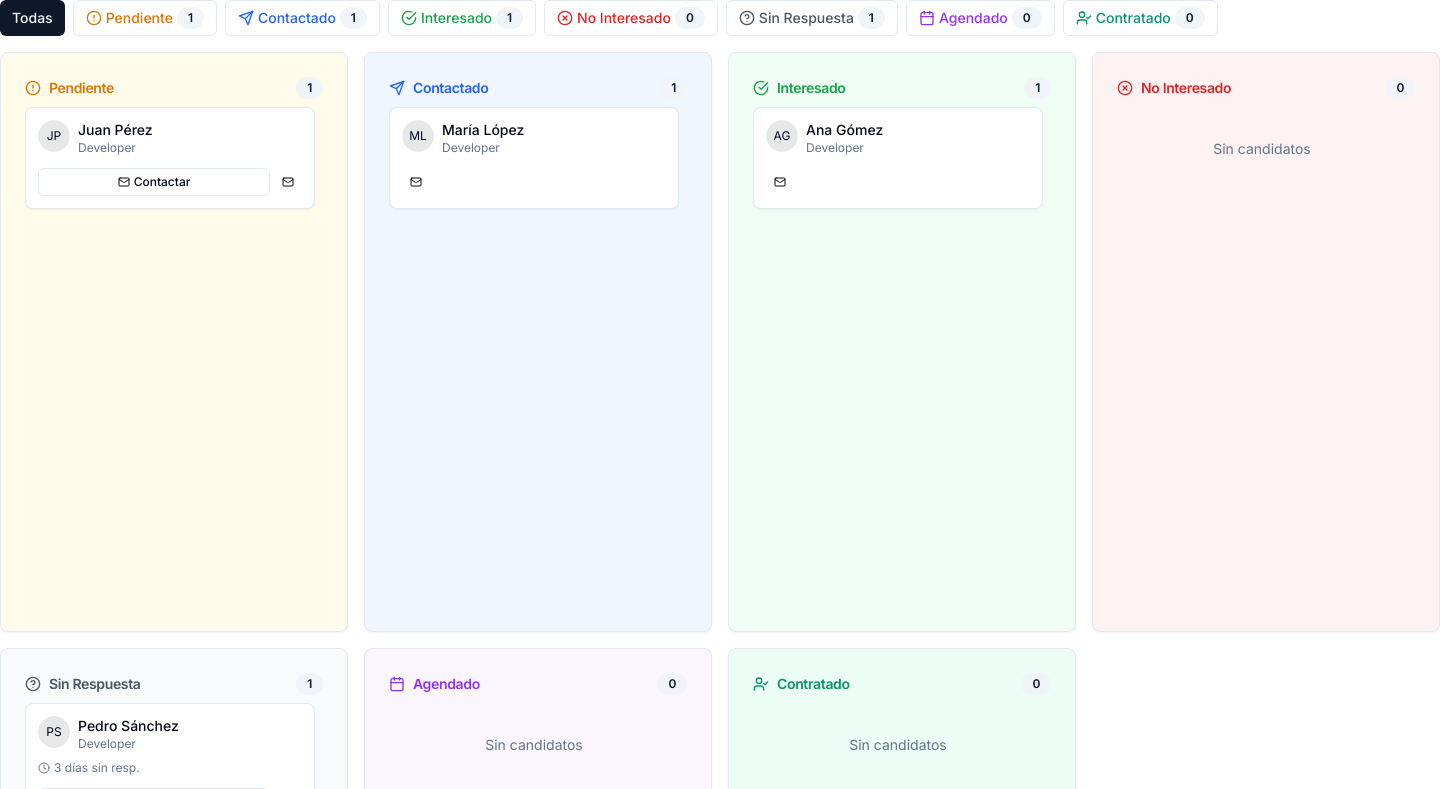
Scenario: KanbanBoard › filters columns when a column button is clicked
The image size is (1440, 789).
Get all Interesado buttons and click the first one (the filter button)
Click the button "Interesado 1" at point(462, 18), box [388,0,536,36]
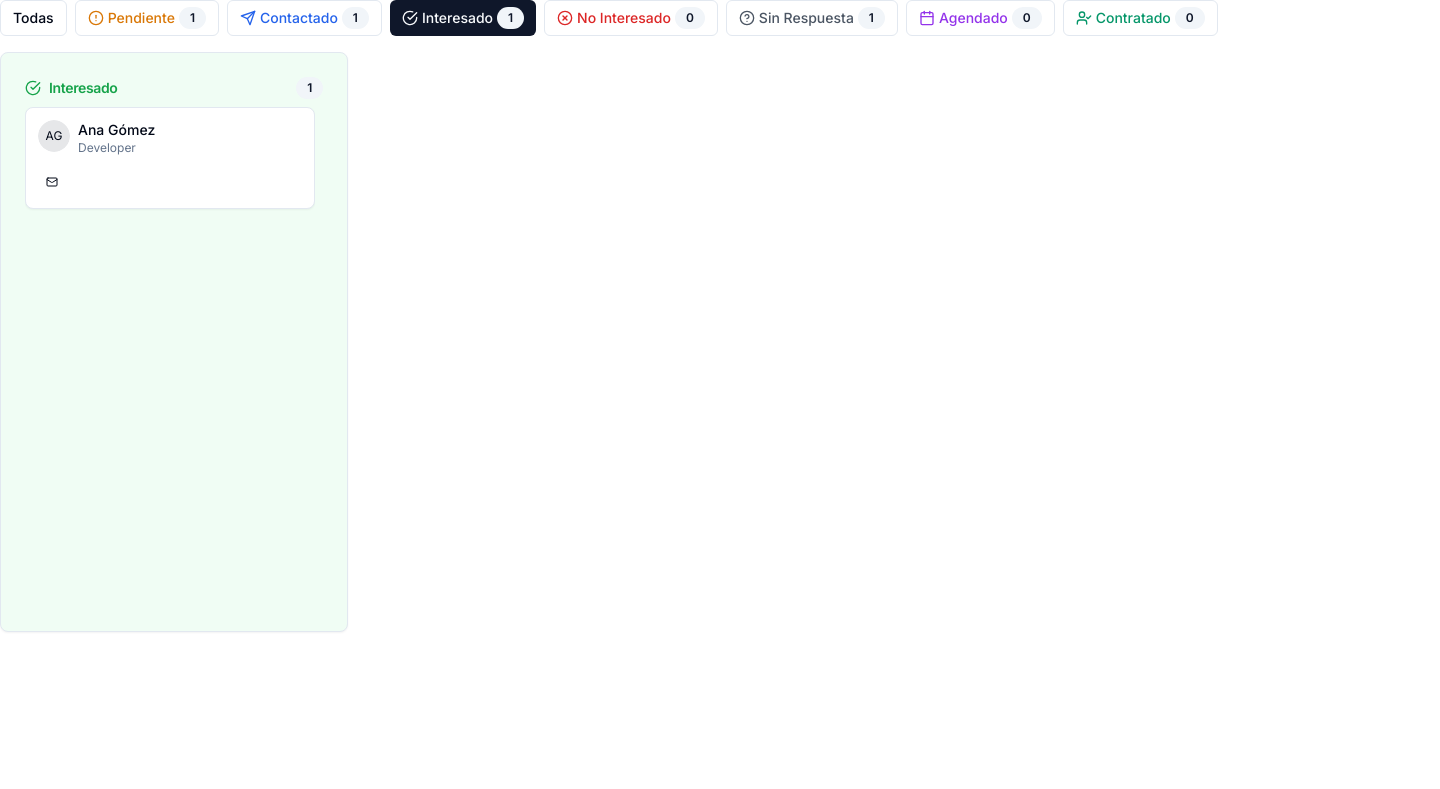
expect the text "Ana Gómez" is shown: met, box [78,121,155,138]
expect the text "Juan Pérez" is gone: met
